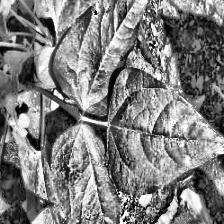ALS: (118, 71, 199, 185), (62, 120, 114, 224), (77, 0, 146, 75)
